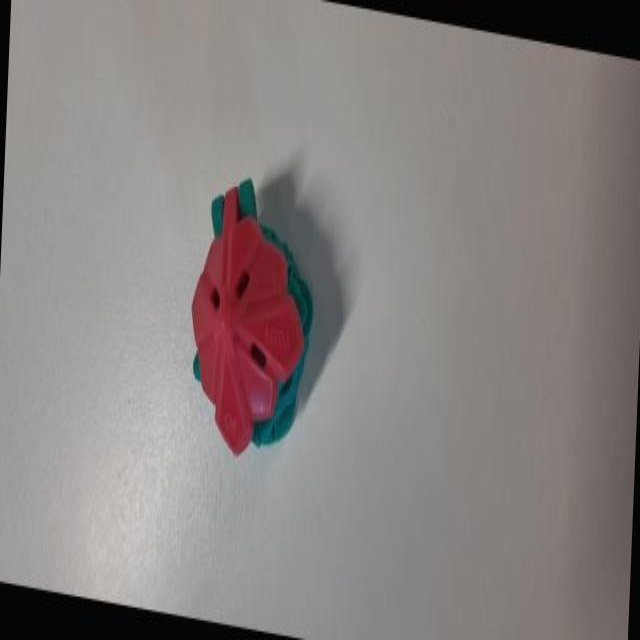House: (175, 157, 332, 515)
